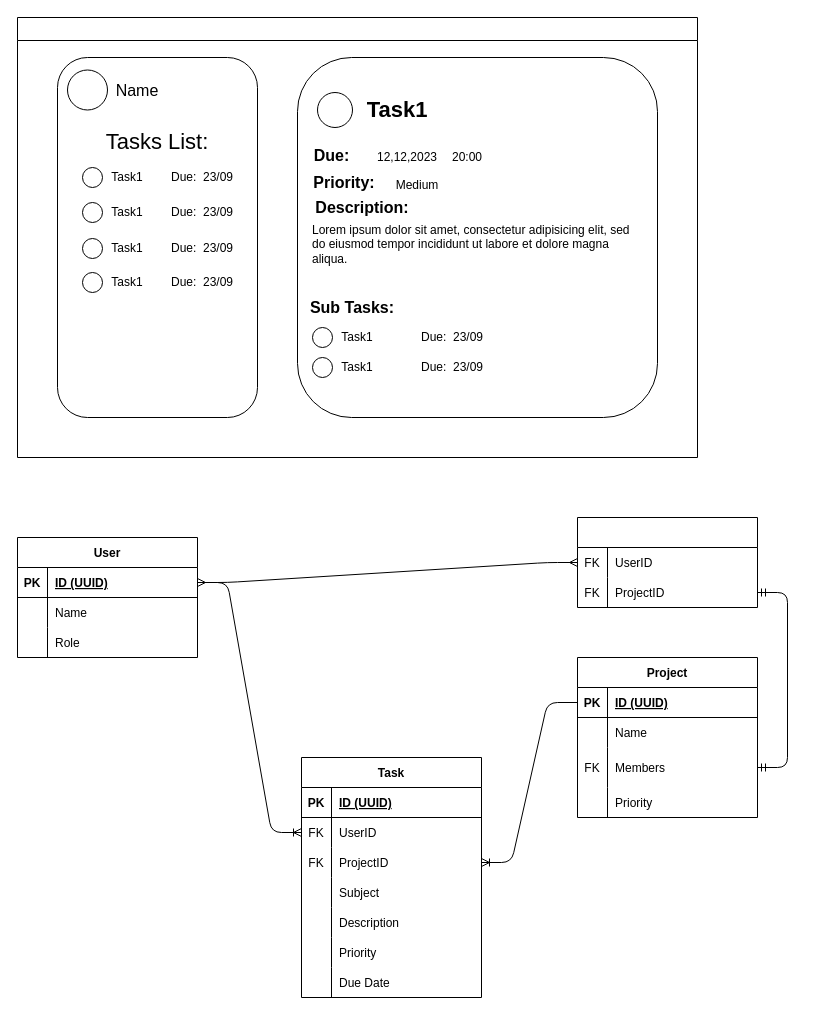
The diagram is 814 pixels wide and 1015 high, and some of its shapes have lost their labels. The shapes that lost their labels are listed below. From the top down, each one's box as (x1, y1, x2, y2) in pixels, then its label:
(16, 16, 698, 458): Vertical Container
(576, 516, 758, 608): Table
